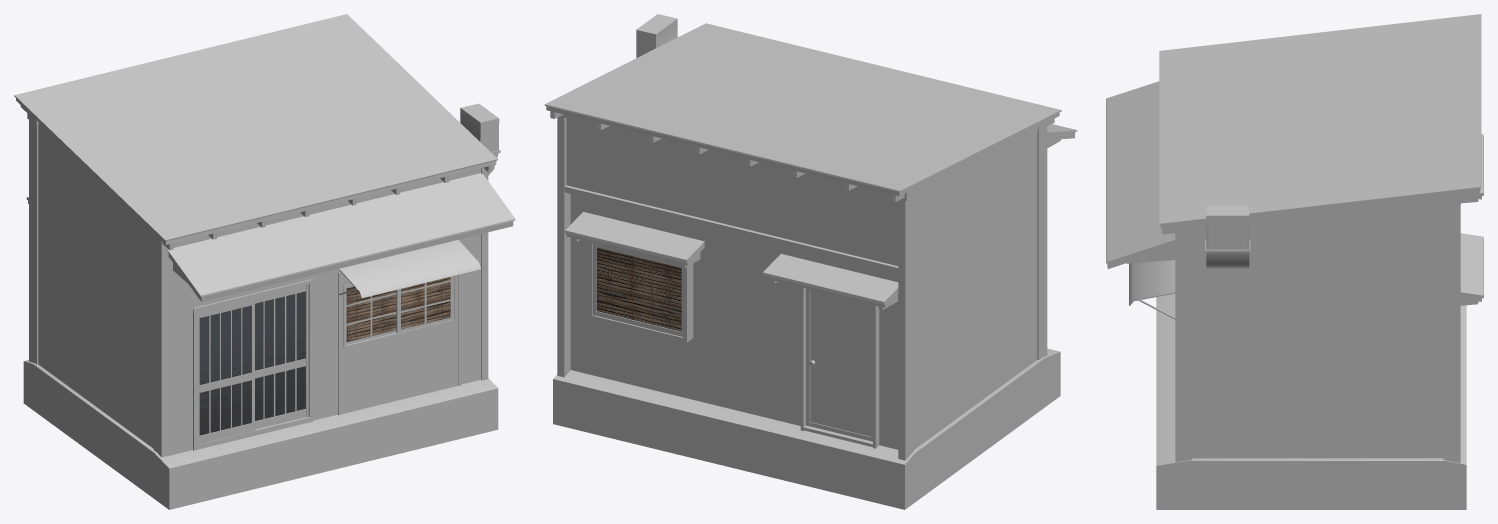
The model's file is ms_small_3a.fbx.
3 views of the same model, side by side, from view 1: azimuth 30°, elevation 25°; view 2: azimuth 150°, elevation 25°; view 3: azimuth 270°, elevation 25° (orthographic). The views are drawn at different scales.
Visible parts, largest first — view 1: ms_small_3a; view 2: ms_small_3a; view 3: ms_small_3a.
Part boxes in pixels (x1=…): ms_small_3a: x1=14, y1=14, x2=515, y2=509; ms_small_3a: x1=544, y1=14, x2=1077, y2=509; ms_small_3a: x1=1106, y1=14, x2=1483, y2=509.
Bounding box in the file's own units: 6.5 × 5.29 × 5.6.
